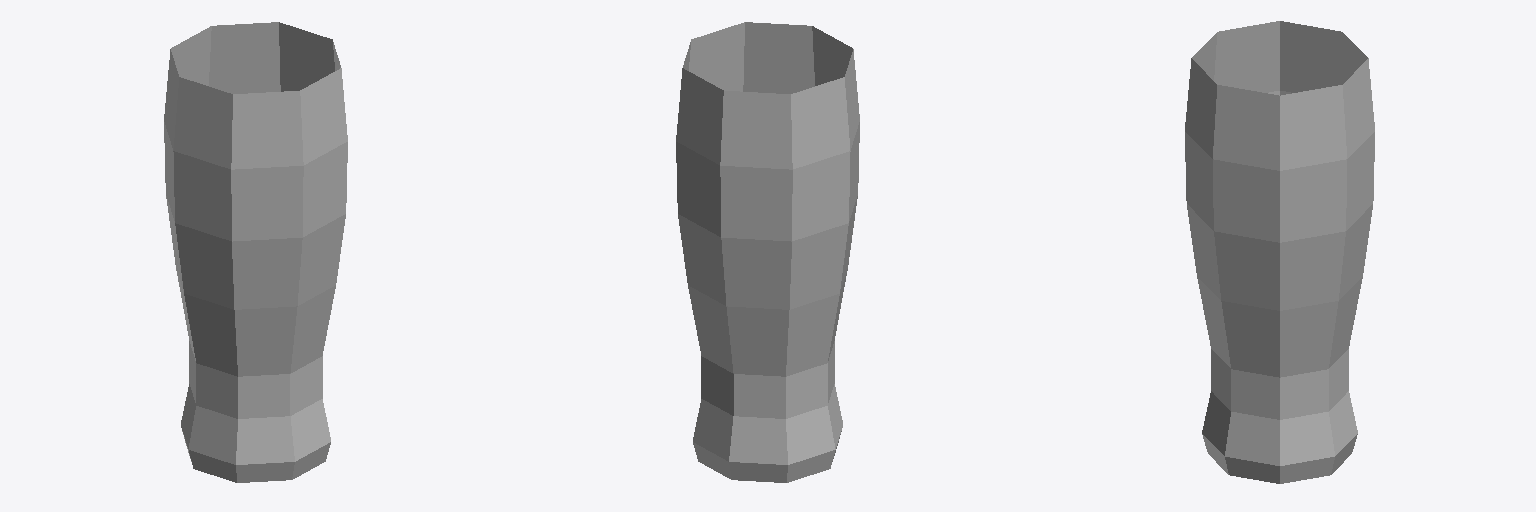
The model's file is sercups_weizen_glass.obj.
The picture shows the model from 3 angles: view 1: azimuth 30°, elevation 25°; view 2: azimuth 150°, elevation 25°; view 3: azimuth 270°, elevation 25°; orthographic projection.
Visible parts, largest first — view 1: sercups_weizen_glass_Cylinder.122; view 2: sercups_weizen_glass_Cylinder.122; view 3: sercups_weizen_glass_Cylinder.122.
Part boxes in pixels (left/top/right/bottom): sercups_weizen_glass_Cylinder.122: left=164, top=22, right=347, bottom=482; sercups_weizen_glass_Cylinder.122: left=676, top=22, right=859, bottom=482; sercups_weizen_glass_Cylinder.122: left=1185, top=21, right=1374, bottom=483.
Bounding box in the file's own units: 1.2 × 2.75 × 1.2.